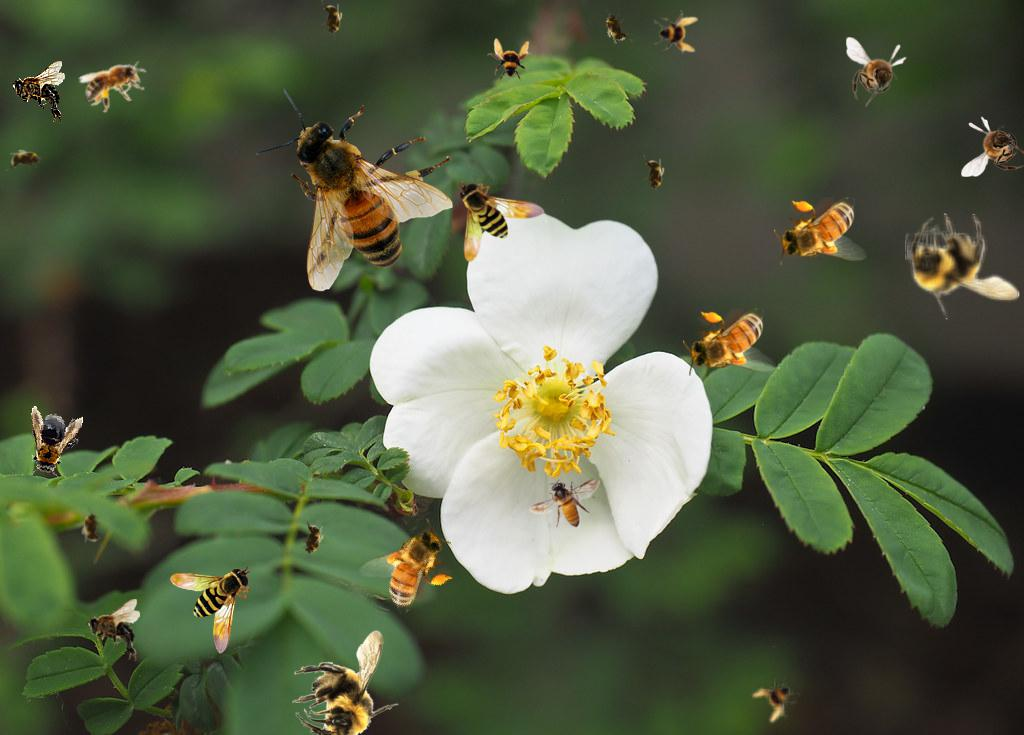Bee: (254, 88, 453, 292), (354, 514, 470, 623), (905, 213, 1020, 320), (291, 627, 402, 735), (457, 180, 545, 262), (170, 566, 252, 654), (683, 308, 776, 376), (774, 197, 867, 265), (76, 48, 156, 119), (19, 405, 85, 483), (846, 37, 907, 107), (747, 668, 809, 730), (961, 116, 1024, 177), (529, 478, 600, 528), (87, 599, 140, 661), (12, 61, 65, 123), (487, 38, 531, 82), (654, 10, 698, 54), (598, 4, 634, 50), (296, 517, 328, 563), (80, 506, 104, 548), (643, 155, 665, 195), (6, 149, 46, 171), (321, 0, 343, 40)
